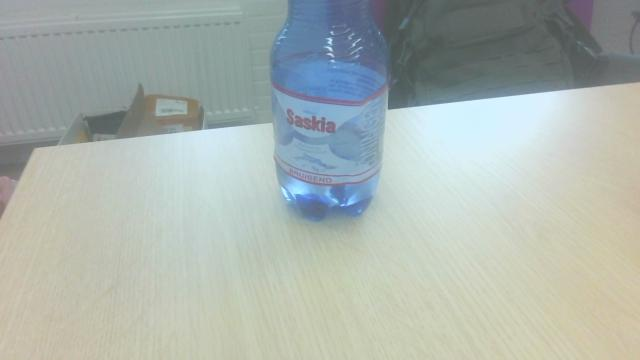plastic_bottle: (264, 0, 395, 223)
